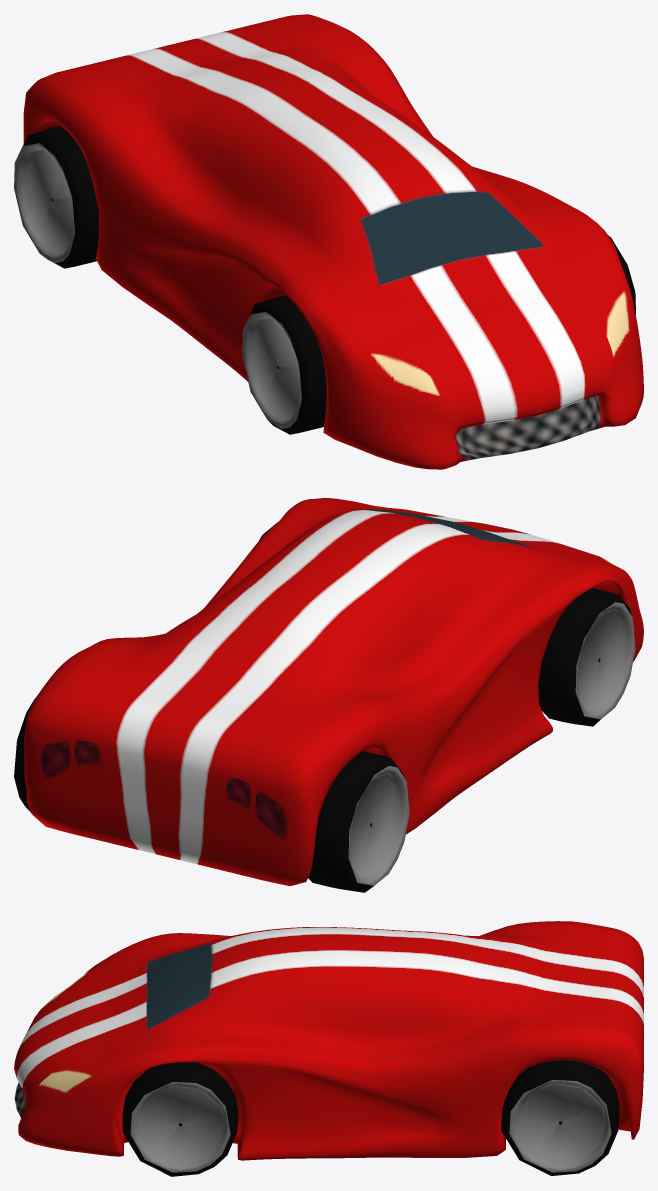
File: Car.fbx
The picture shows the model from 3 angles, top to bottom: view 1: azimuth 30°, elevation 25°; view 2: azimuth 150°, elevation 25°; view 3: azimuth 270°, elevation 25°; orthographic projection. The views are drawn at different scales.
Parts seen in each view (by area): view 1: carBody, wheelBackRight, WheelFrontRight; view 2: carBody, wheelBackRight, WheelFrontRight, wheelBackLeft; view 3: carBody, wheelBackLeft, wheelFrontLeft.
Boxes of the visible parts, bbox=[...] form: carBody: bbox=[23, 14, 643, 469]; wheelBackRight: bbox=[14, 126, 99, 268]; WheelFrontRight: bbox=[242, 295, 326, 434]; carBody: bbox=[24, 498, 643, 886]; wheelBackRight: bbox=[308, 751, 409, 892]; WheelFrontRight: bbox=[538, 588, 635, 726]; wheelBackLeft: bbox=[14, 698, 35, 810]; carBody: bbox=[14, 921, 643, 1160]; wheelBackLeft: bbox=[501, 1060, 619, 1175]; wheelFrontLeft: bbox=[122, 1062, 238, 1176].
Size of the model in its own units: 14.23 by 8.22 by 27.74.
